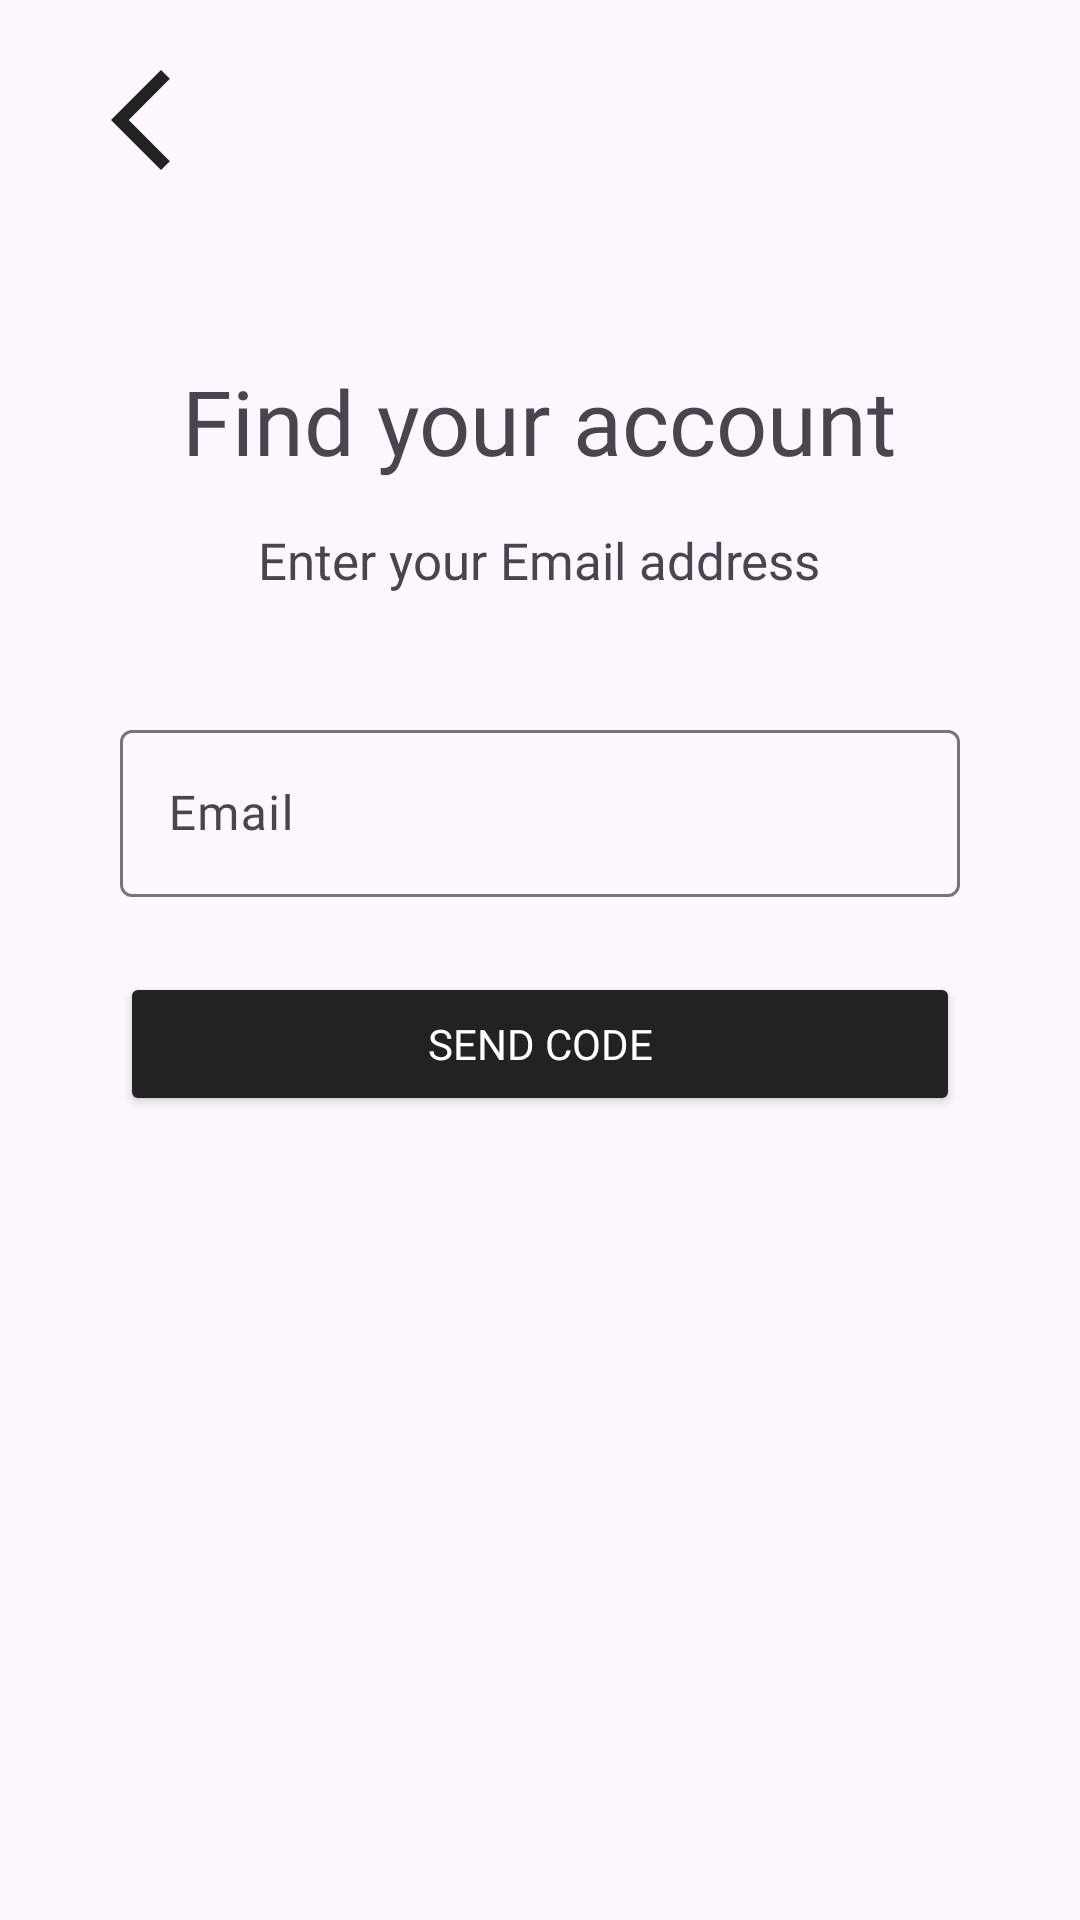

Named icons in this screenshot (1080 × 1920) and their centers, [x,y]:
arrow left: [140,120]
